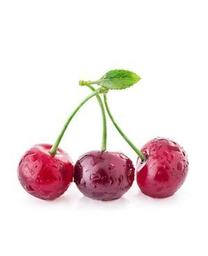cherry: (17, 142, 74, 200), (135, 137, 189, 198), (74, 149, 134, 201)
